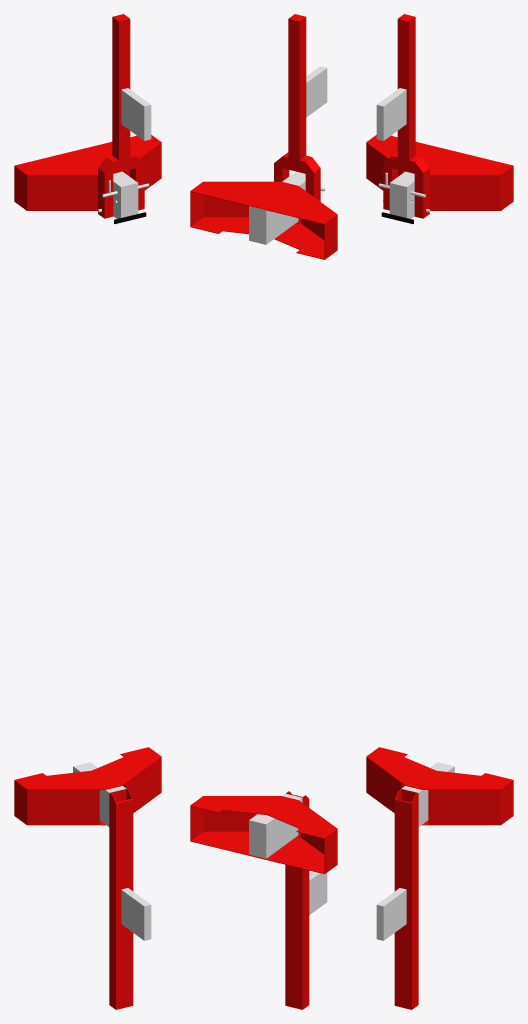
File: Trenches Optimized.fbx
3 views of the same model, side by side, from view 1: azimuth 30°, elevation 25°; view 2: azimuth 150°, elevation 25°; view 3: azimuth 330°, elevation 25° (orthographic).
Visible parts, largest first — view 1: mesh7, mesh45, mesh28, mesh102, mesh80, mesh99, mesh9, mesh30, mesh77, mesh96, mesh4, mesh104 (+4 smaller); view 2: mesh99, mesh45, mesh10, mesh81, mesh39, mesh118, mesh9, mesh77, mesh40, mesh22, mesh114, mesh96 (+8 smaller); view 3: mesh7, mesh45, mesh30, mesh104, mesh80, mesh99, mesh8, mesh28, mesh75, mesh97, mesh5, mesh102 (+4 smaller).
Part boxes in pixels (x1,y1,x2,y2): mesh7: (116, 799, 133, 1009); mesh45: (14, 747, 161, 789); mesh28: (27, 789, 105, 825); mesh102: (27, 175, 97, 210); mesh80: (104, 19, 144, 218); mesh99: (14, 135, 161, 175); mesh9: (109, 793, 115, 1009); mesh30: (122, 757, 161, 812); mesh77: (112, 17, 118, 159); mesh96: (121, 90, 144, 140); mesh4: (121, 890, 144, 940); mesh104: (125, 142, 161, 190); mesh99: (190, 181, 337, 223); mesh45: (190, 796, 337, 838); mesh10: (285, 864, 302, 1009); mesh81: (274, 19, 313, 196); mesh39: (191, 831, 324, 873); mesh118: (191, 217, 324, 258); mesh9: (302, 795, 309, 1009); mesh77: (299, 17, 306, 159); mesh40: (203, 809, 256, 831); mesh22: (266, 798, 302, 858); mesh114: (203, 195, 248, 217); mesh96: (306, 68, 327, 117); mesh7: (394, 799, 411, 1009); mesh45: (366, 747, 513, 789); mesh30: (422, 789, 500, 825); mesh104: (430, 175, 500, 210); mesh80: (383, 19, 423, 218); mesh99: (366, 135, 513, 175); mesh8: (412, 793, 418, 1009); mesh28: (366, 757, 405, 812); mesh75: (409, 17, 415, 159); mesh97: (383, 90, 406, 140); mesh5: (383, 890, 406, 940); mesh102: (366, 142, 402, 190).
Bounding box in the file's own units: 119 × 837 × 102.
